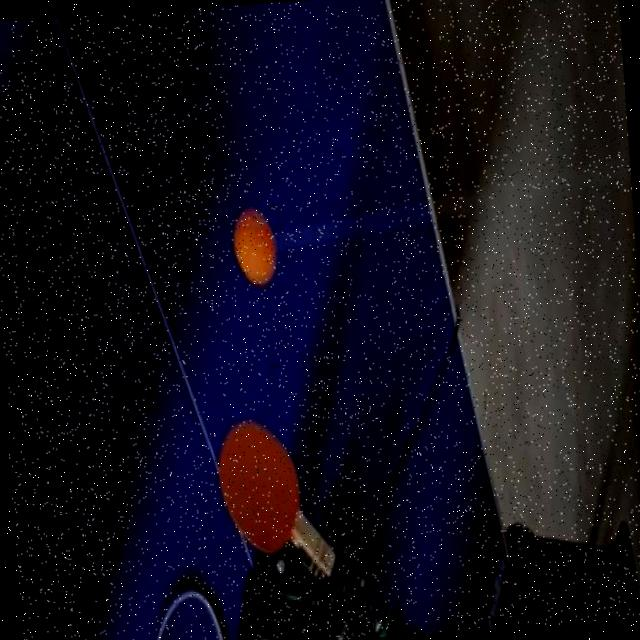ping-pong-ball: (232, 208, 276, 290)
